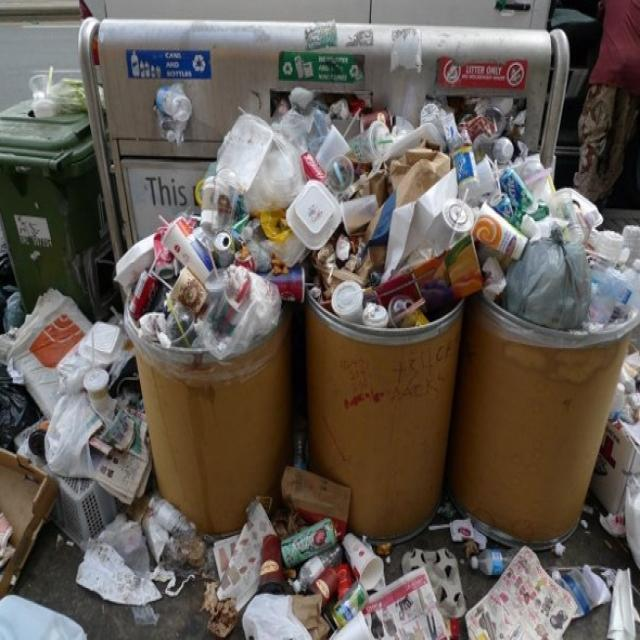Disposable: (286, 180, 341, 249), (164, 220, 212, 283), (474, 203, 528, 259), (425, 198, 474, 253), (201, 171, 239, 231), (114, 235, 153, 286), (550, 190, 585, 244), (170, 266, 208, 314), (349, 120, 392, 162), (340, 195, 378, 234), (315, 125, 350, 167), (331, 280, 362, 322), (390, 295, 429, 327), (247, 238, 271, 272), (362, 303, 389, 327), (492, 137, 514, 165)
Garbage: (116, 88, 640, 358)
Plastic_Bag: (216, 113, 305, 212), (505, 231, 591, 329), (196, 265, 281, 359), (588, 265, 634, 325)
Plastic_bottle: (444, 123, 480, 202)
can: (129, 271, 159, 319), (212, 231, 235, 267)
